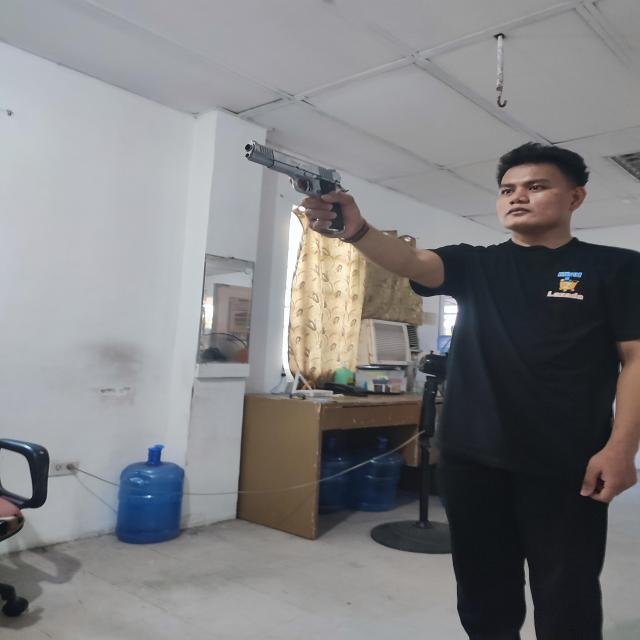pistol: (245, 140, 349, 234)
